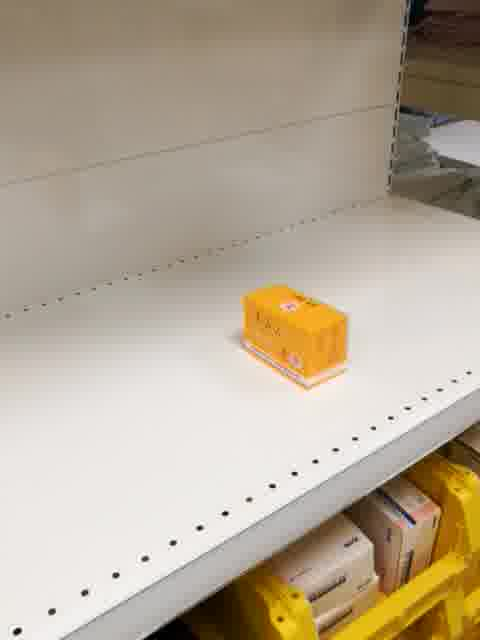jasminetea: (242, 283, 349, 390)
